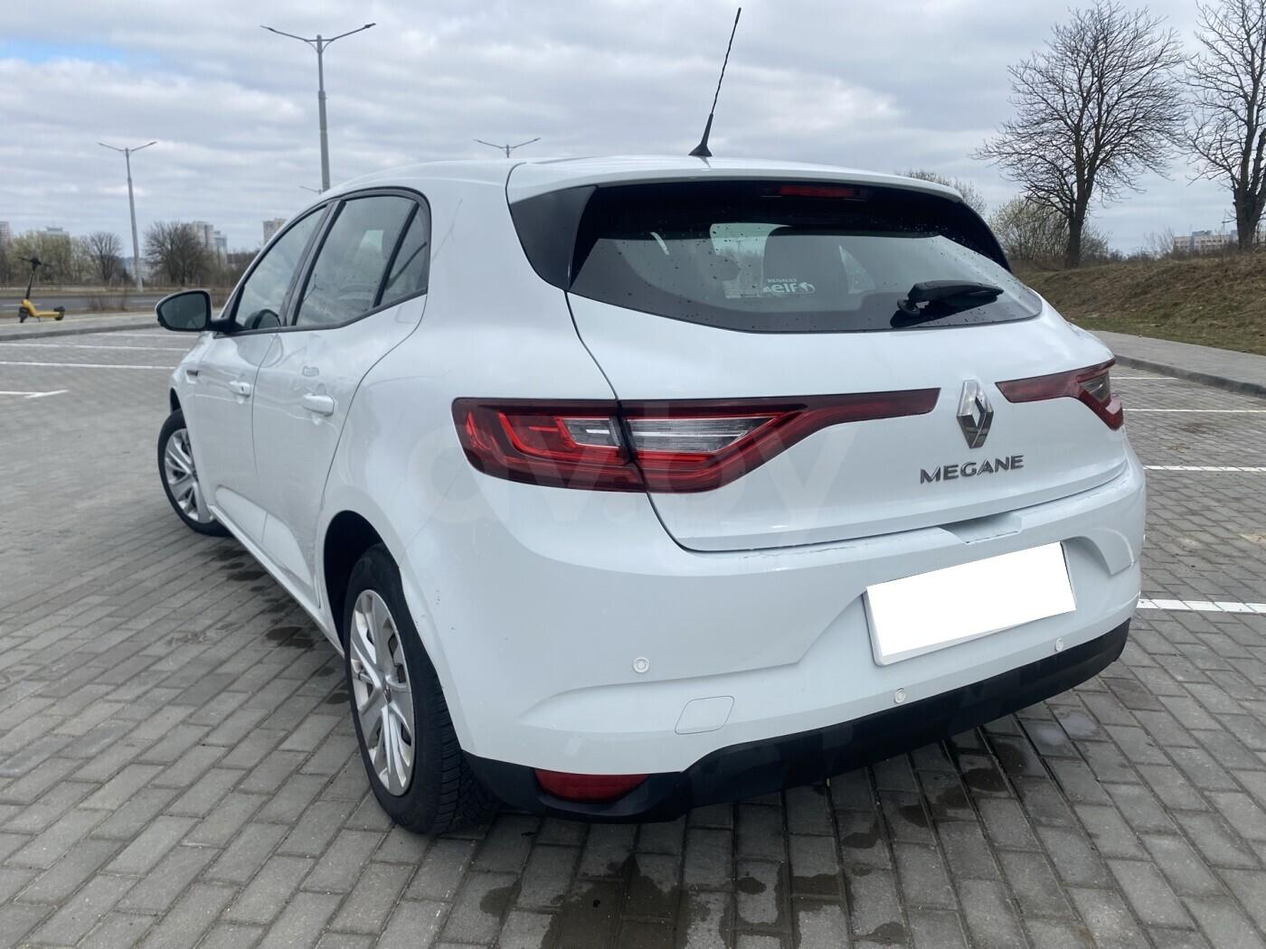Megane_2016-2020: (149, 160, 1147, 821)
